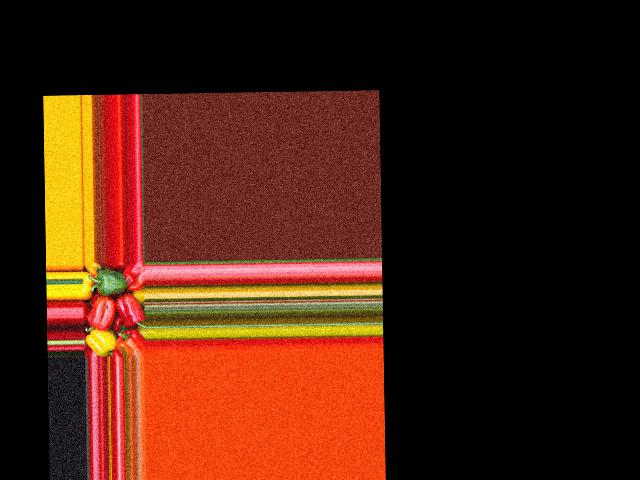bell_pepper: (83, 327, 118, 356)
